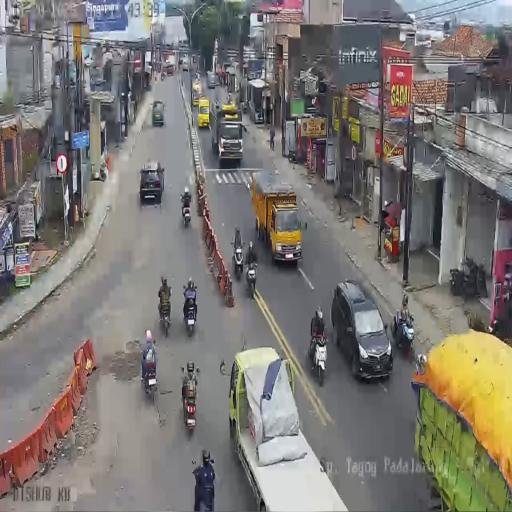car: (332, 278, 394, 380), (139, 161, 164, 206), (197, 96, 210, 130), (152, 100, 164, 127), (192, 81, 202, 107), (206, 70, 216, 89), (166, 62, 175, 76), (144, 76, 152, 91), (182, 56, 189, 71), (160, 66, 166, 78), (178, 56, 184, 66)
motorcycle: (181, 361, 200, 429), (308, 324, 328, 385), (489, 292, 512, 342), (392, 307, 414, 353), (158, 290, 172, 335), (231, 233, 245, 278), (144, 360, 158, 401), (245, 256, 258, 299), (184, 295, 196, 336), (181, 193, 192, 228), (288, 146, 297, 164), (195, 70, 200, 82)
truck: (250, 174, 300, 264), (209, 99, 244, 165)
